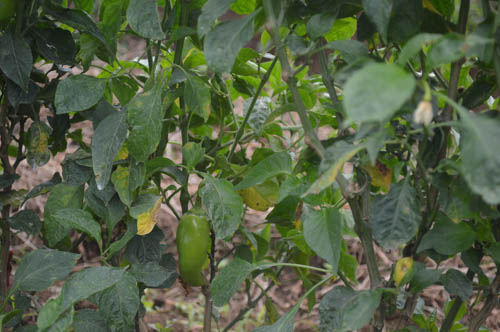ChiliPepper: (175, 211, 210, 292)
